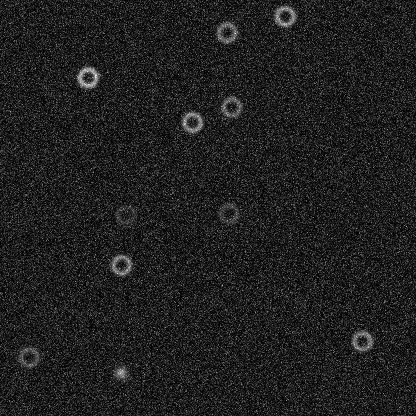Ring: (216, 201, 240, 225), (180, 109, 204, 133), (219, 94, 243, 118), (214, 20, 238, 44), (17, 345, 41, 369), (109, 252, 133, 276), (113, 202, 137, 226), (75, 65, 99, 89), (272, 4, 296, 28), (349, 328, 373, 352)
Spot: (112, 364, 128, 380)
